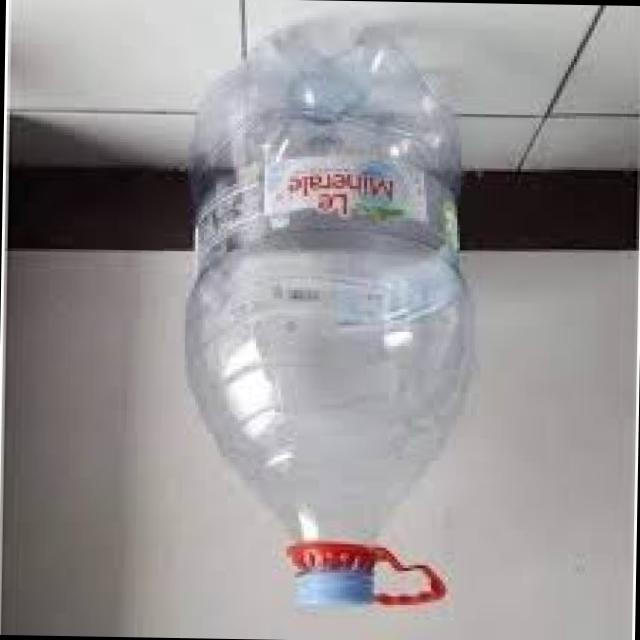Galon: (177, 23, 486, 617)
